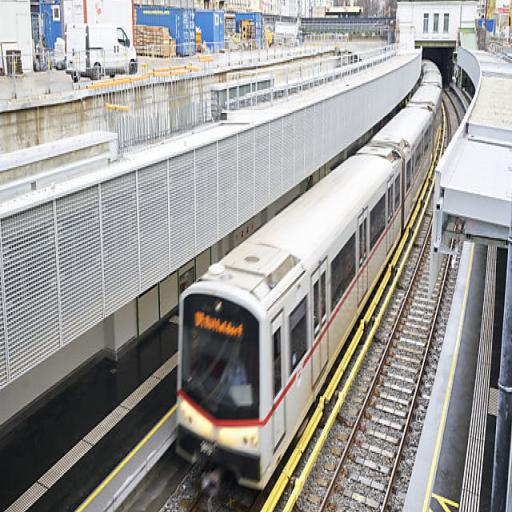V-Wagen: (176, 55, 444, 488)
